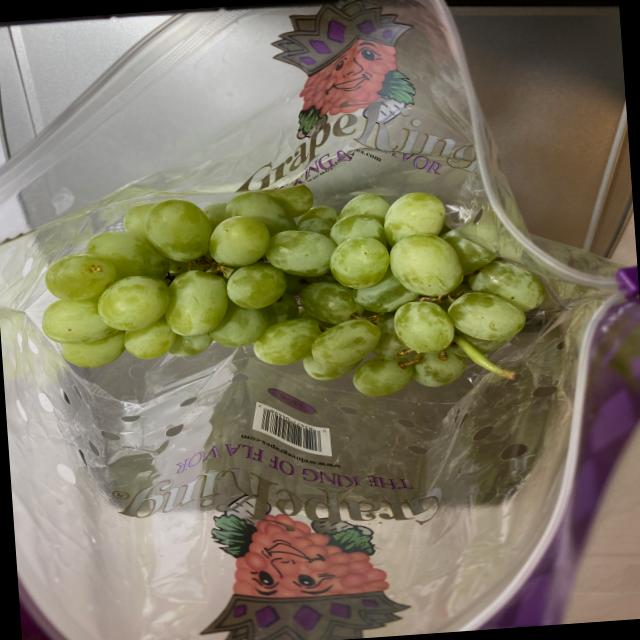grapes: (33, 177, 558, 416)
